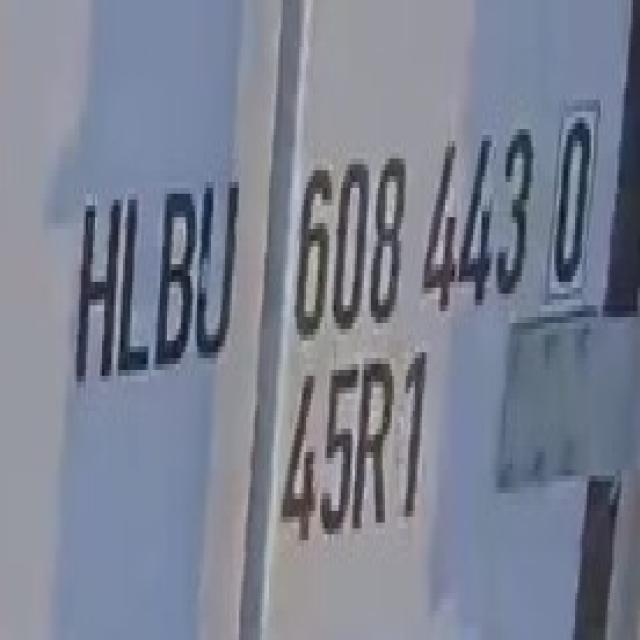dv: (542, 89, 612, 324)
owner: (60, 156, 248, 400)
serial: (282, 101, 537, 355)
size: (269, 345, 454, 568)
